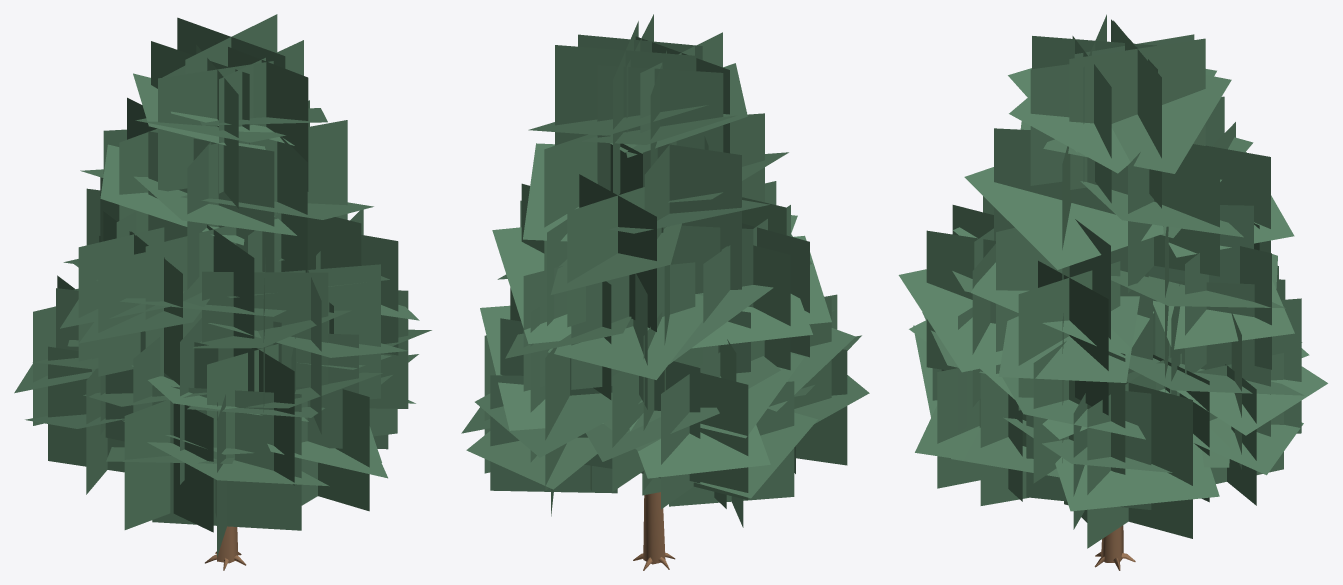
File: pin_2_f2_loin.glb
The picture shows the model from 3 angles, left to right: view 1: azimuth 30°, elevation 25°; view 2: azimuth 150°, elevation 25°; view 3: azimuth 270°, elevation 25°; orthographic projection.
Parts seen in each view (by area): view 1: Pin_T2_f2_Leger_Loin; view 2: Pin_T2_f2_Leger_Loin; view 3: Pin_T2_f2_Leger_Loin.
Boxes of the visible parts, left/top/right/bottom form: Pin_T2_f2_Leger_Loin: left=14, top=14, right=431, bottom=570; Pin_T2_f2_Leger_Loin: left=461, top=14, right=869, bottom=570; Pin_T2_f2_Leger_Loin: left=898, top=14, right=1327, bottom=570.
Bounding box in the file's own units: 8.11 × 11.7 × 8.74.
